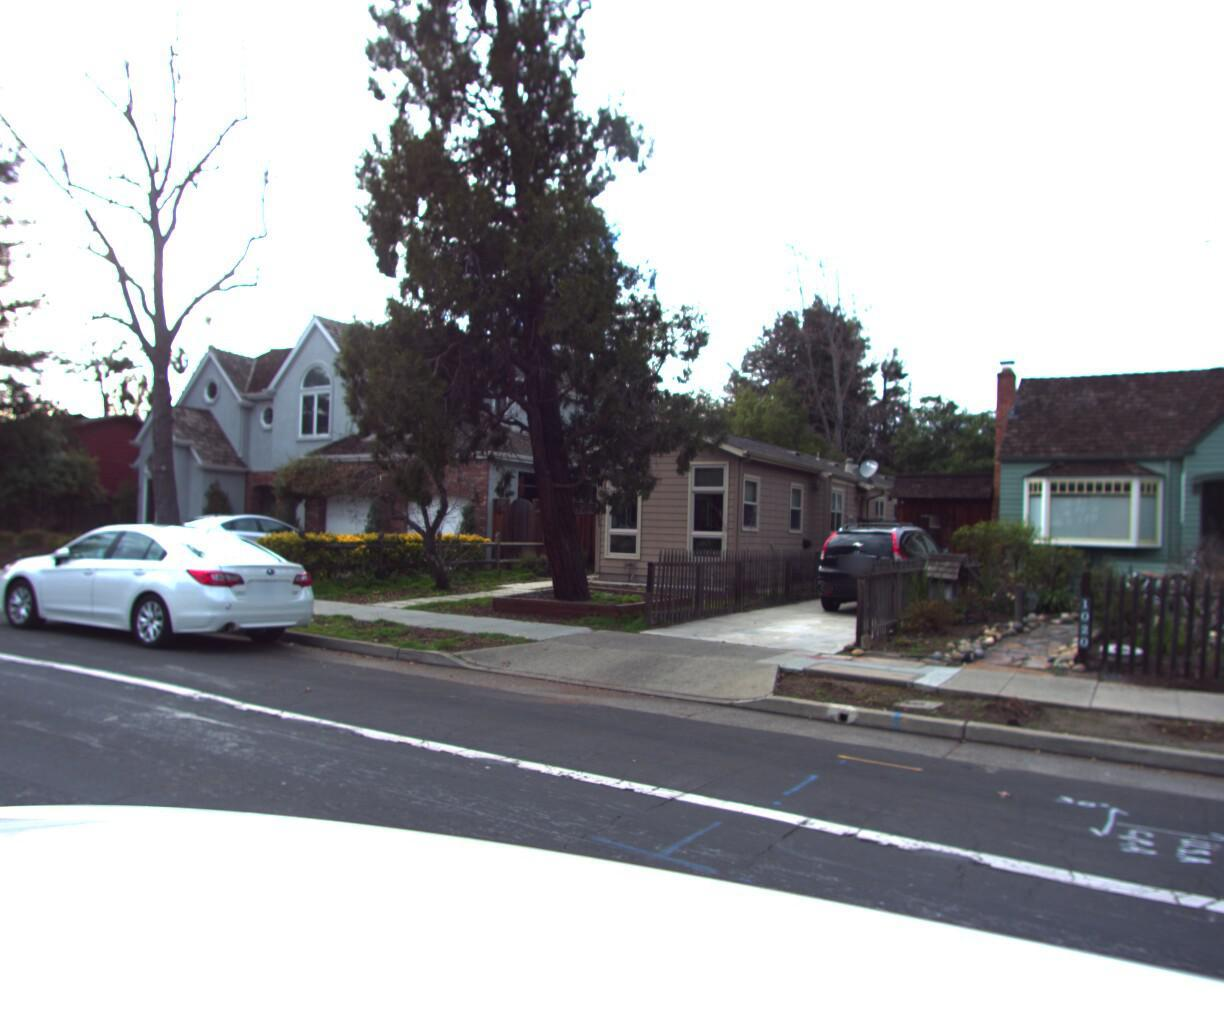car: (0, 522, 328, 666), (804, 521, 958, 617), (151, 516, 348, 580)
motorcycle: (1117, 548, 1224, 622)
